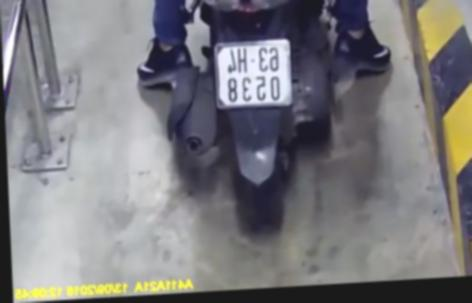License_Plate: (209, 34, 297, 117)
